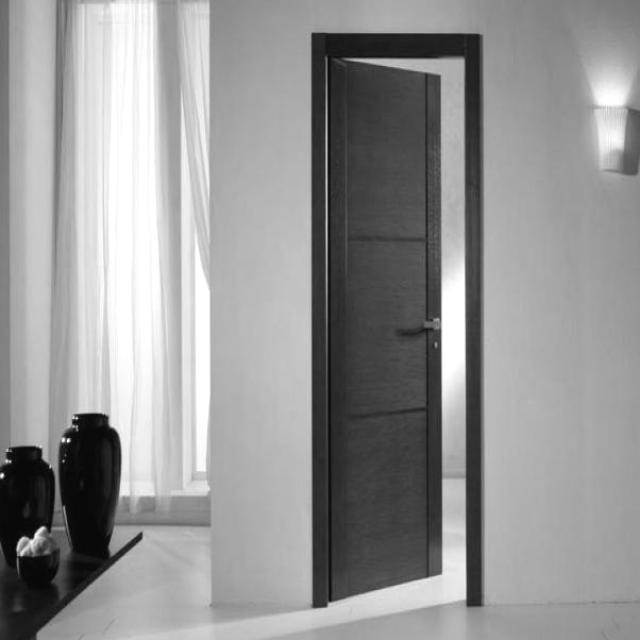door: (325, 53, 443, 603)
